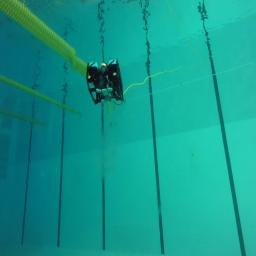front: (86, 58, 124, 104)
